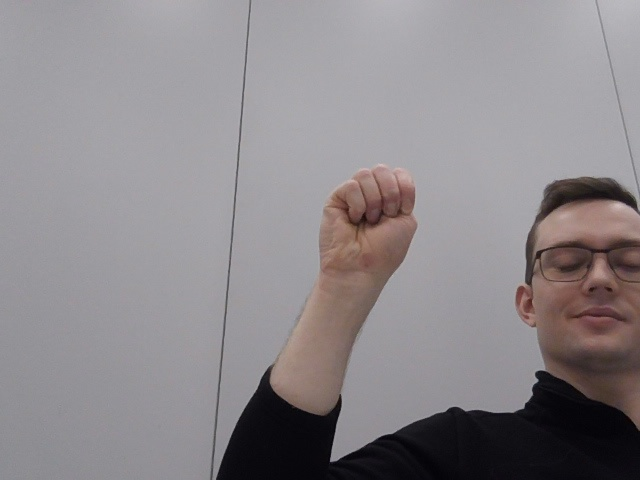down: (295, 150, 448, 313)
